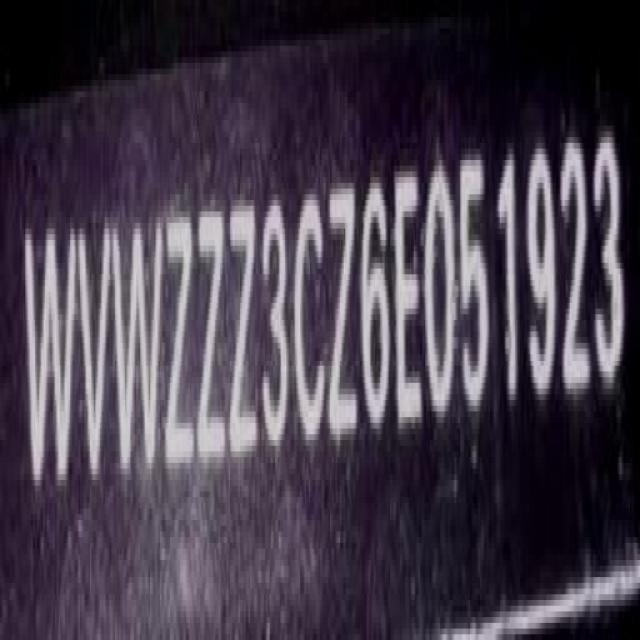0: (424, 156, 457, 430)
1: (498, 140, 521, 412)
2: (558, 133, 590, 403)
3: (596, 125, 627, 392), (261, 192, 291, 456)
5: (460, 144, 491, 419)
6: (362, 167, 392, 443)
9: (525, 141, 558, 406)
C: (296, 186, 328, 450)
E: (393, 161, 425, 423)
V: (78, 216, 111, 476)
W: (24, 213, 72, 502), (112, 216, 163, 463)
Z: (163, 199, 197, 474), (327, 169, 358, 445), (200, 193, 228, 477), (229, 193, 258, 467)
